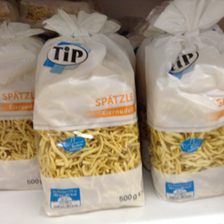pasta: (33, 8, 146, 218), (136, 1, 224, 202)
